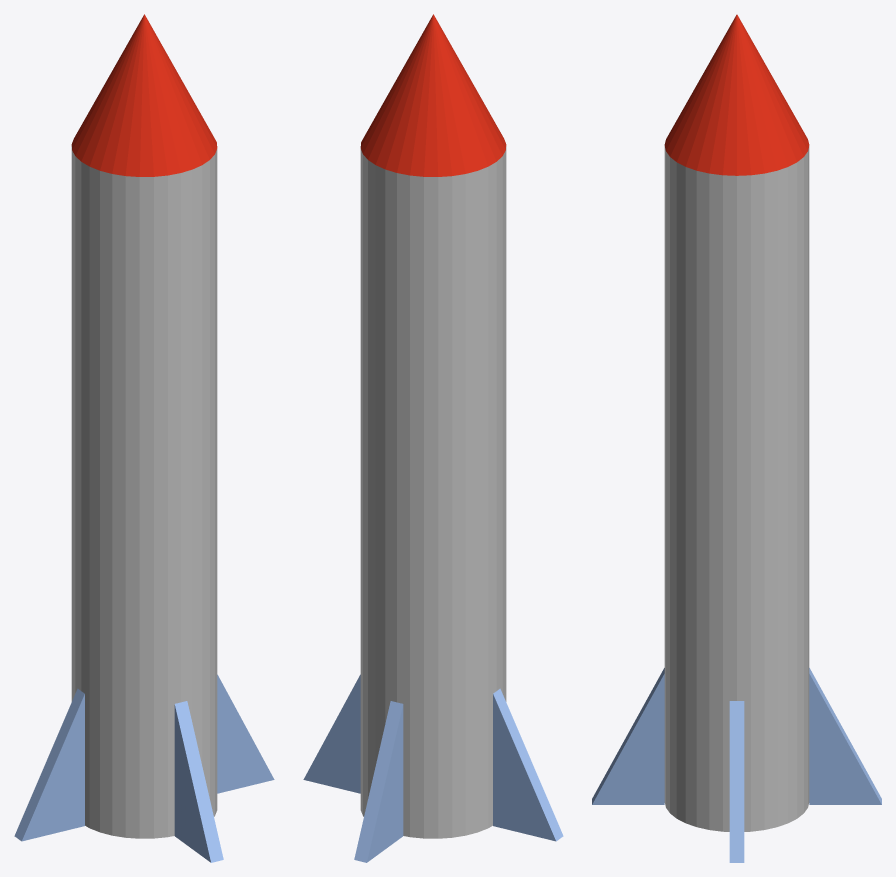
The model's file is missile.glb.
The picture shows the model from 3 angles, left to right: view 1: azimuth 30°, elevation 25°; view 2: azimuth 150°, elevation 25°; view 3: azimuth 270°, elevation 25°; orthographic projection.
Visible parts, largest first — view 1: Cylinder, Cone, RightTriangle_Thick.002, RightTriangle_Thick.003, RightTriangle_Thick; view 2: Cylinder, Cone, RightTriangle_Thick.002, RightTriangle_Thick.001, RightTriangle_Thick; view 3: Cylinder, Cone, RightTriangle_Thick.001, RightTriangle_Thick.003, RightTriangle_Thick.
Part boxes in pixels (left/top/right/bottom): Cylinder: left=71, top=147, right=217, bottom=838; Cone: left=71, top=14, right=217, bottom=176; RightTriangle_Thick.002: left=14, top=688, right=84, bottom=841; RightTriangle_Thick.003: left=174, top=701, right=223, bottom=862; RightTriangle_Thick: left=217, top=674, right=274, bottom=793; Cylinder: left=360, top=147, right=506, bottom=838; Cone: left=360, top=14, right=506, bottom=176; RightTriangle_Thick.002: left=493, top=688, right=563, bottom=841; RightTriangle_Thick.001: left=354, top=701, right=403, bottom=862; RightTriangle_Thick: left=303, top=674, right=360, bottom=793; Cylinder: left=664, top=146, right=809, bottom=831; Cone: left=664, top=14, right=809, bottom=175; RightTriangle_Thick.001: left=809, top=668, right=881, bottom=804; RightTriangle_Thick.003: left=592, top=668, right=664, bottom=804; RightTriangle_Thick: left=729, top=701, right=744, bottom=862.
Size of the model in its own units: 4 by 12 by 4.
